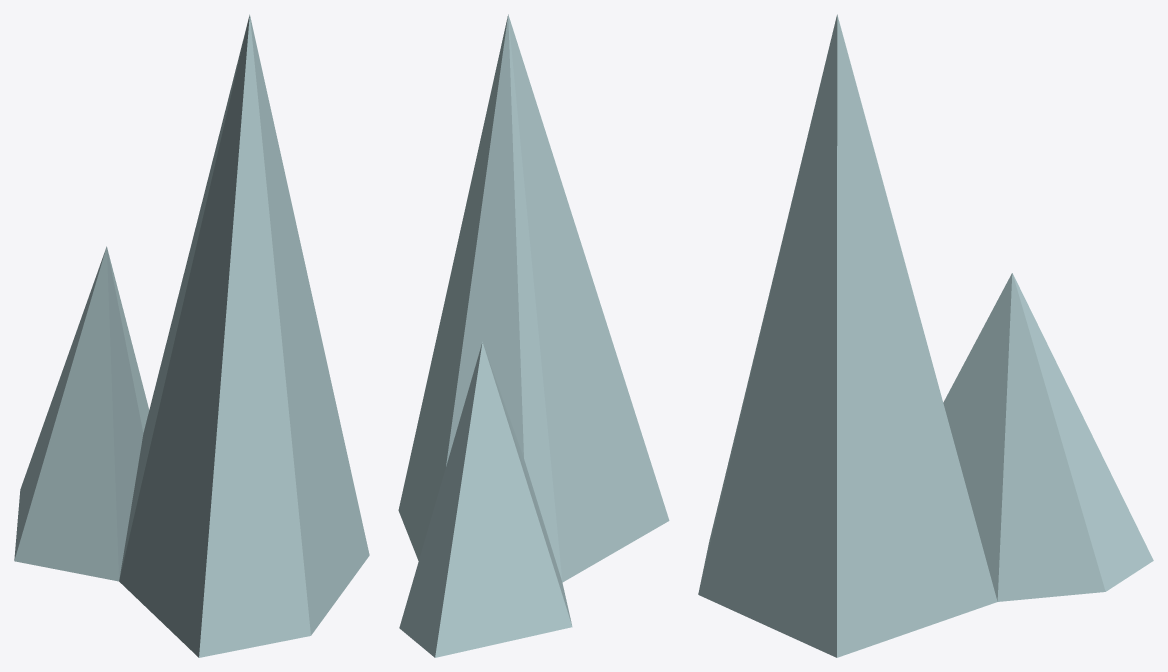
The model's file is spikes02.fbx.
The picture shows the model from 3 angles, left to right: view 1: azimuth 30°, elevation 25°; view 2: azimuth 150°, elevation 25°; view 3: azimuth 270°, elevation 25°; orthographic projection. The views are drawn at different scales.
Visible parts, largest first — view 1: polySurface10; view 2: polySurface10; view 3: polySurface10.
Boxes of the visible parts, left/top/right/bottom form: polySurface10: left=14, top=14, right=369, bottom=657; polySurface10: left=398, top=14, right=669, bottom=657; polySurface10: left=698, top=14, right=1153, bottom=657.
Size of the model in its own units: 0.065 by 0.1301 by 0.092.
